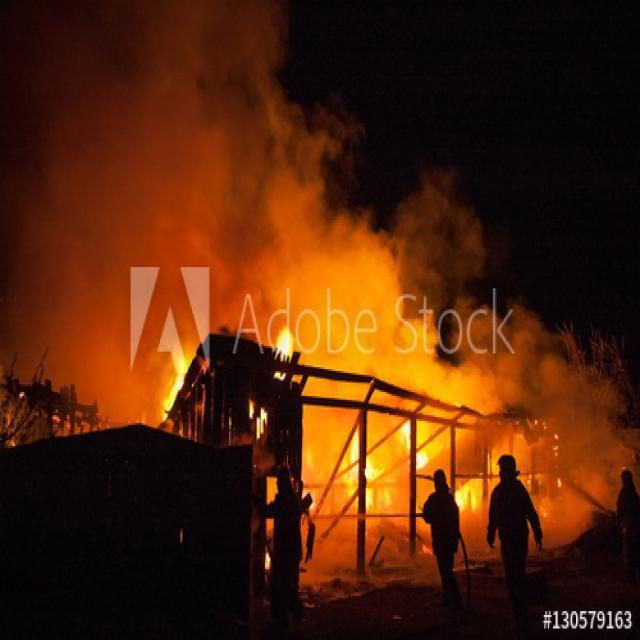Fire: (356, 443, 391, 503)
Smoke: (85, 144, 410, 360), (511, 352, 618, 522)
